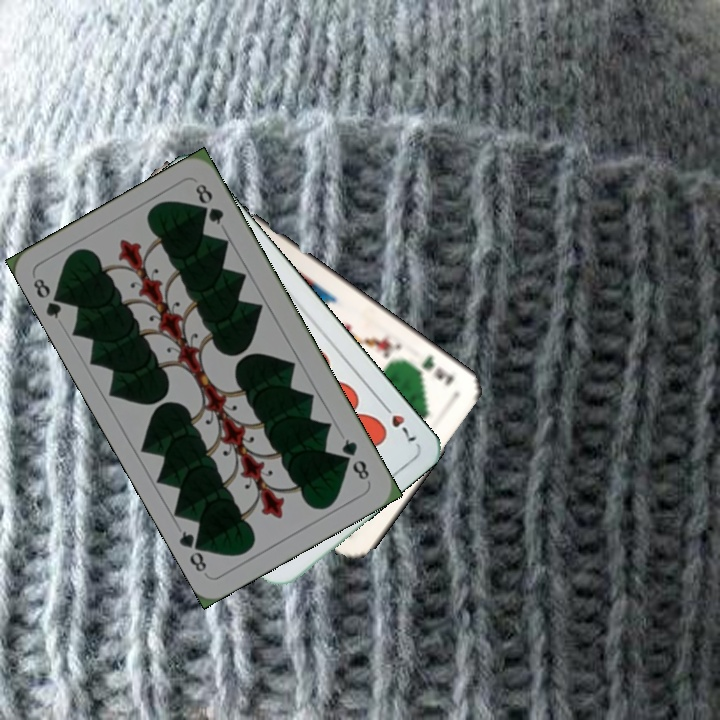G8: (29, 274, 69, 322), (337, 434, 372, 483)
GK: (417, 350, 456, 388)
H7: (376, 397, 419, 445)
